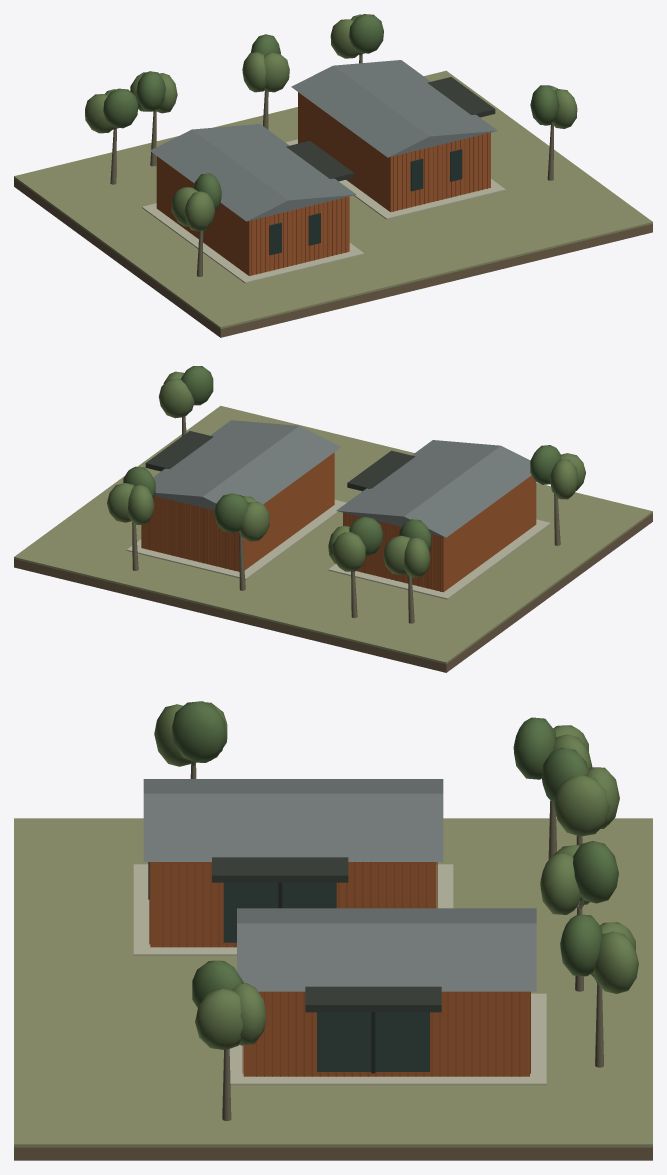
The model's file is gms-24.glb.
3 renders of one model, top to bottom at view 1: azimuth 30°, elevation 25°; view 2: azimuth 150°, elevation 25°; view 3: azimuth 270°, elevation 25°, orthographic. The views are drawn at different scales.
Visible parts, largest first — view 1: GMS-24 - estudio del paisaje; view 2: GMS-24 - estudio del paisaje; view 3: GMS-24 - estudio del paisaje.
Boxes of the visible parts, bbox=[...] form: GMS-24 - estudio del paisaje: bbox=[14, 14, 652, 337]; GMS-24 - estudio del paisaje: bbox=[14, 366, 652, 672]; GMS-24 - estudio del paisaje: bbox=[14, 701, 652, 1160].
Size of the model in its own units: 11.6 by 2.79 by 9.6.
